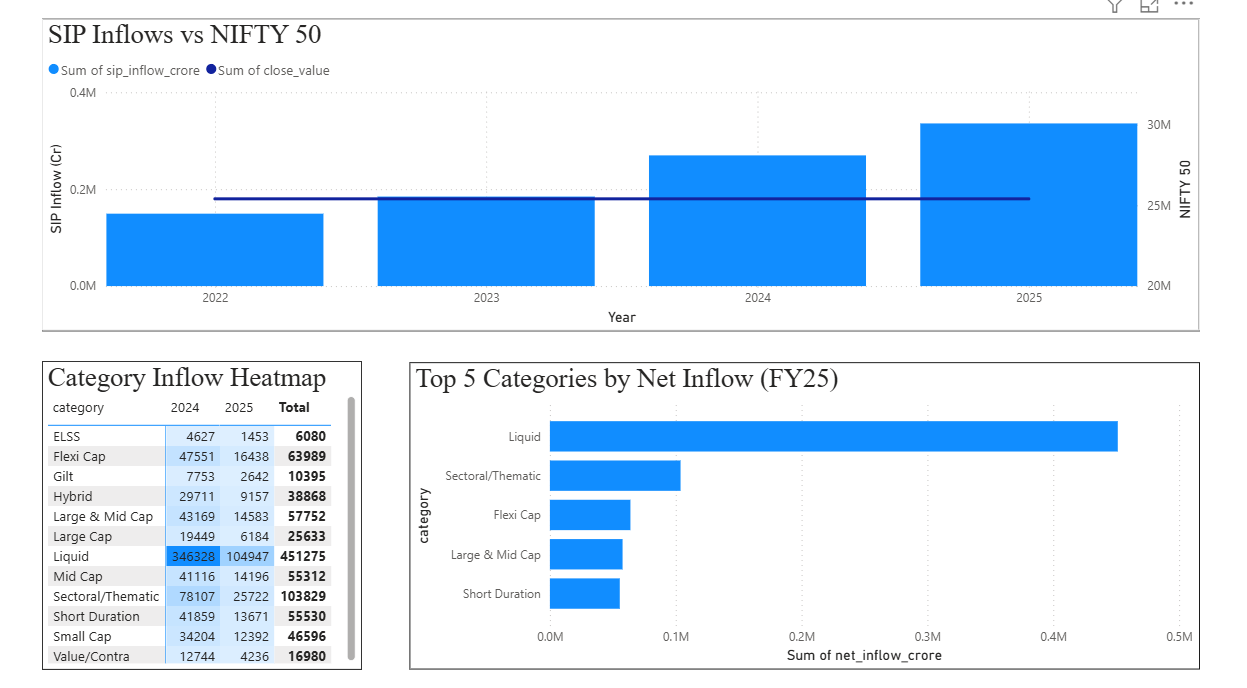

The dashboard page shown, as its layout file describes it:
{"tool":"powerbi","page":{"name":"SIP & Market Trends","canvas":[1280,720],"ordinal":3},"visuals":[{"type":"lineClusteredColumnComboChart","title":"SIP Inflows vs NIFTY 50","fields":{"Y":["Sum(04_monthly_sip_inflows_cleaned.sip_inflow_crore)"],"Y2":["Sum(10_benchmark_indices_cleaned.close_value)"],"Category":["04_monthly_sip_inflows_cleaned.month.Variation.Date Hierarchy.Year"]},"box":[50,27.5,1157.5,312.5],"z":0},{"type":"pivotTable","title":"Category Inflow Heatmap","fields":{"Rows":["05_category_inflows_cleaned.category"],"Columns":["05_category_inflows_cleaned.month.Variation.Date Hierarchy.Year","05_category_inflows_cleaned.month.Variation.Date Hierarchy.Quarter","05_category_inflows_cleaned.month.Variation.Date Hierarchy.Month","05_category_inflows_cleaned.month.Variation.Date Hierarchy.Day"],"Values":["Sum(05_category_inflows_cleaned.net_inflow_crore)"]},"box":[50,370,320,308.8],"z":1000},{"type":"clusteredBarChart","title":"Top 5 Categories by Net Inflow (FY25)","fields":{"Category":["05_category_inflows_cleaned.category"],"Y":["Sum(05_category_inflows_cleaned.net_inflow_crore)"]},"box":[417.5,371.2,790,307.5],"z":2000}]}

Visuals, with their boxes in screenshot pixels (x1, y1, x2, y2), scaled from the page's 1280x720 canvas onto the 1247x688 screenshot:
"SIP Inflows vs NIFTY 50" lineClusteredColumnComboChart: {"x1": 49, "y1": 26, "x2": 1176, "y2": 325}
"Category Inflow Heatmap" pivotTable: {"x1": 49, "y1": 354, "x2": 360, "y2": 649}
"Top 5 Categories by Net Inflow (FY25)" clusteredBarChart: {"x1": 407, "y1": 355, "x2": 1176, "y2": 649}
